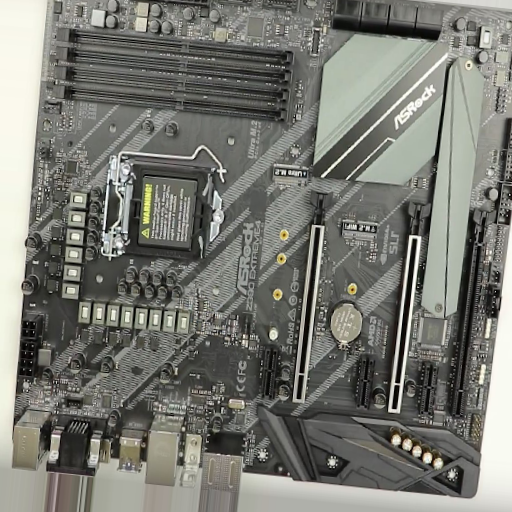CPU: (101, 157, 227, 261)
GPU: (288, 189, 336, 407), (385, 201, 431, 417), (450, 208, 496, 421)
MOTHERBOARD: (9, 2, 507, 503)
RAM: (50, 25, 296, 131)
SSD: (338, 217, 379, 247), (270, 162, 311, 189)
